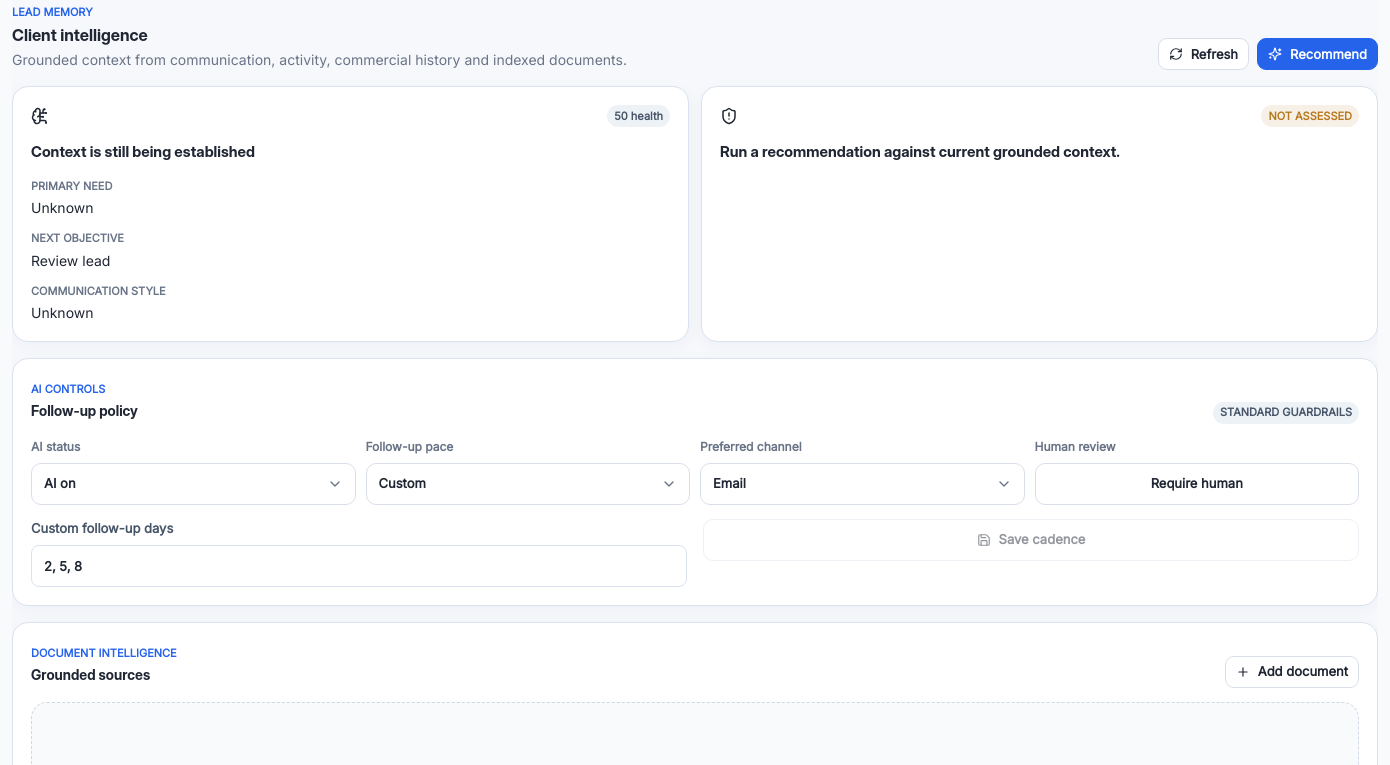
LeadIntelligencePanel custom cadence › rejects invalid custom days  without an API mutation
The image size is (1390, 765).
Clear the field labelled "Custom follow-up days" at {"x": 359, "y": 566}, box [31,546,687,588]
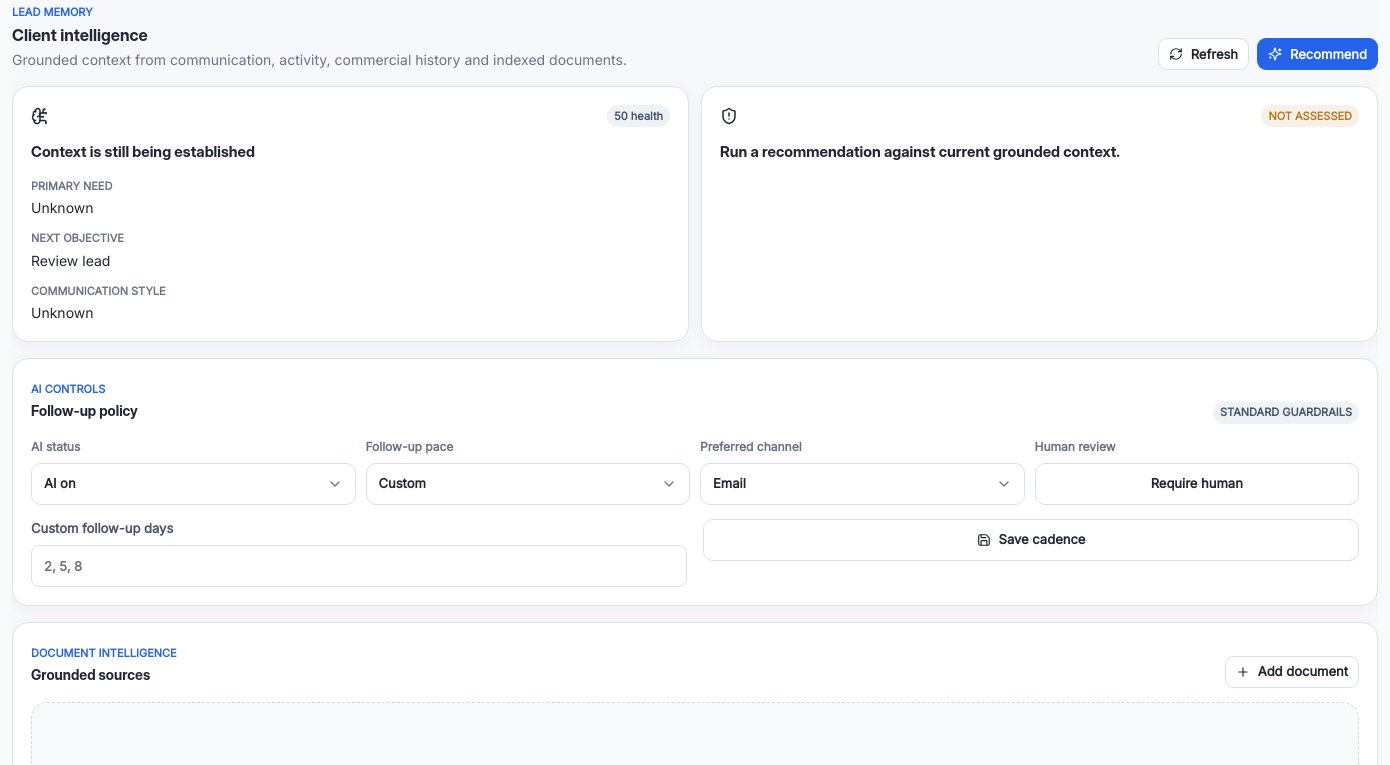
Click the button "Save cadence" at {"x": 1031, "y": 540}, box [703,519,1359,561]
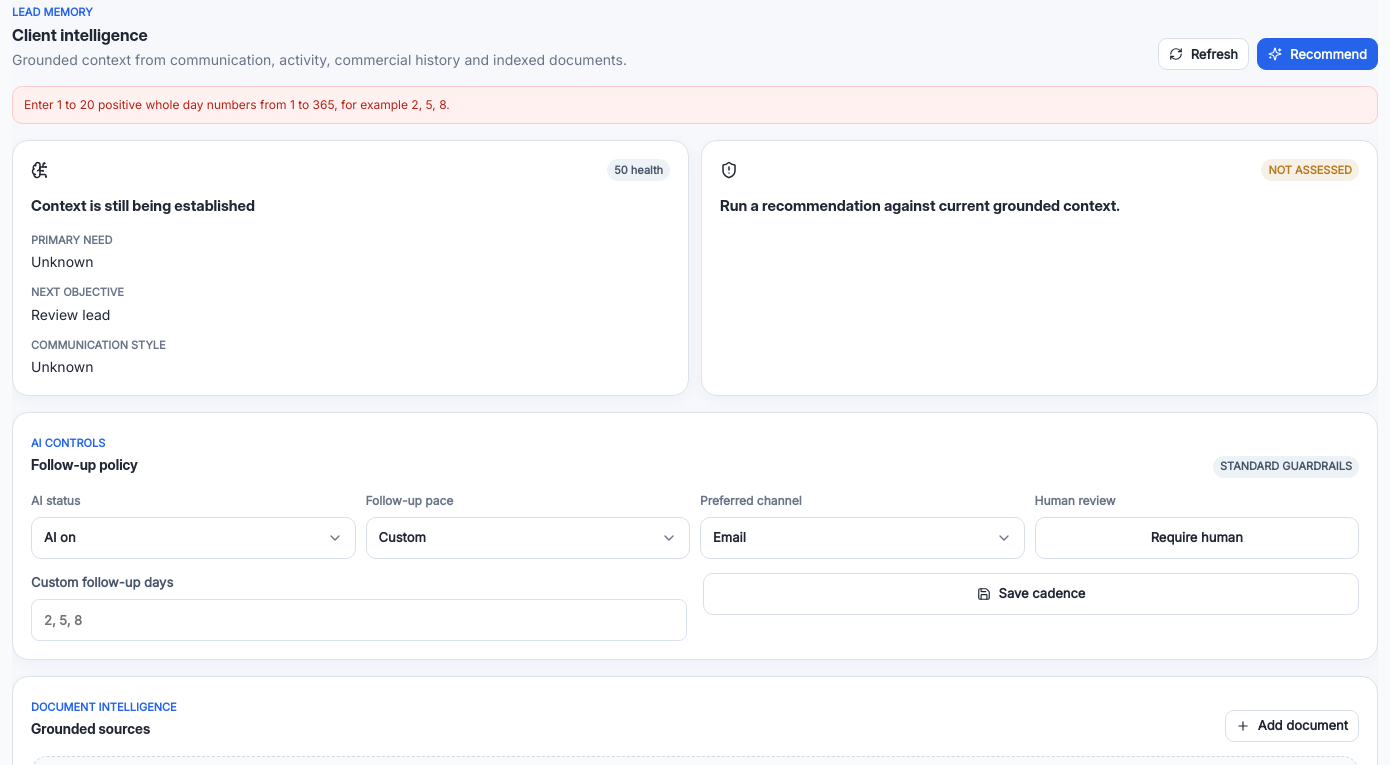
Now the text "positive whole day numbers" is shown, box [24,98,450,112]
